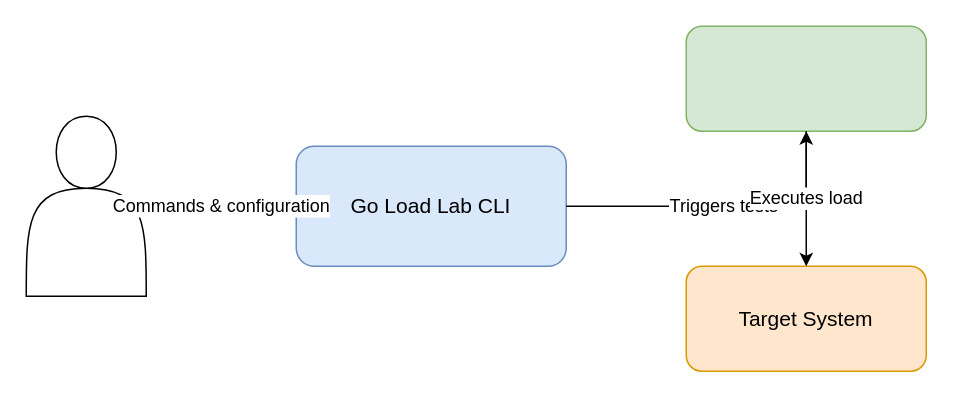
Some shapes in this 953 by 398 pixel diagram are drawn without their labels. Each missing label, with the box of its shape:
HTTP API: (685, 25, 926, 131)
Load Engineer: (25, 115, 146, 296)
